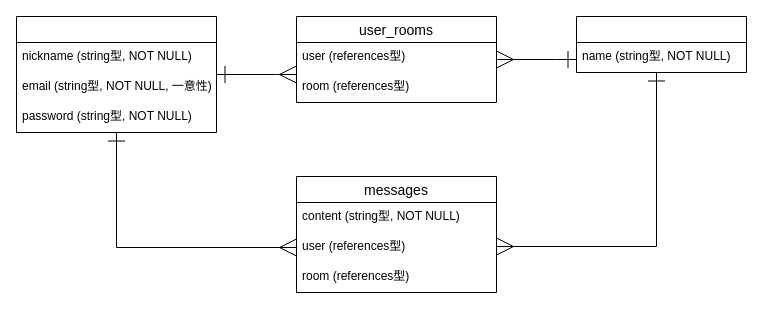
The diagram is 763 pixels wide and 309 high, and some of its shapes have lost their labels. Here are the shapes that lost their labels. From the top down, the box of each, then its label:
(576, 16, 746, 72): rooms
(16, 16, 216, 132): users
